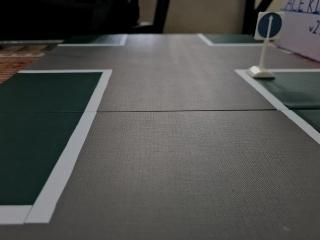straight: (255, 10, 288, 39)
